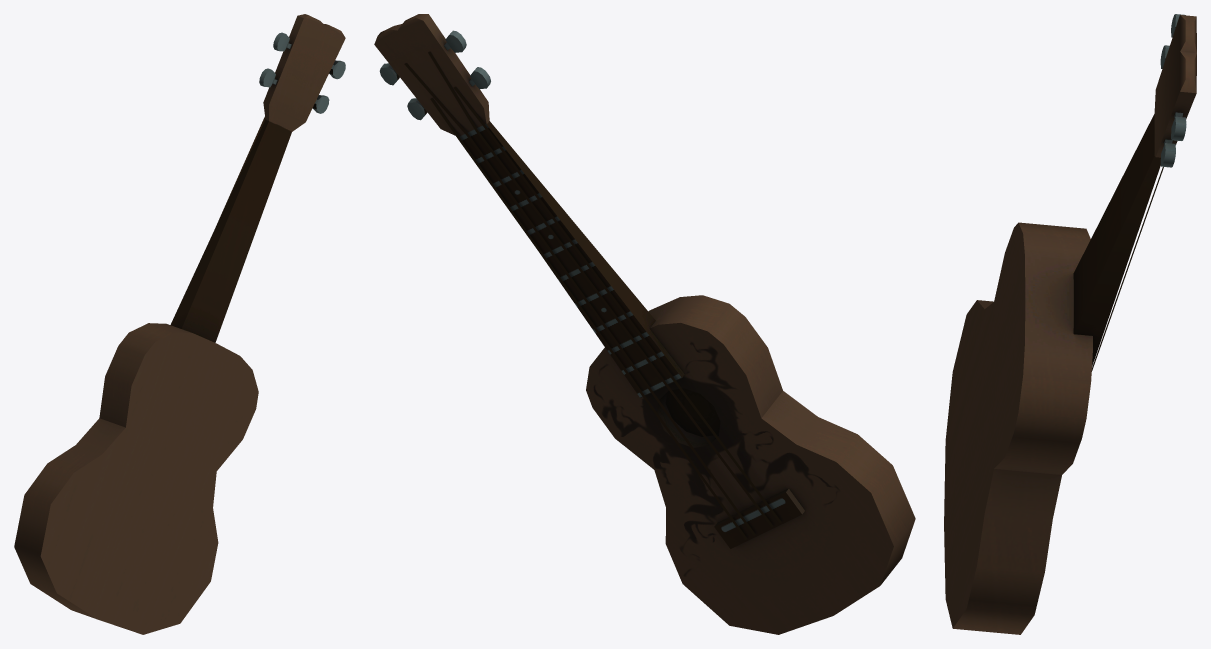
File: mdlUkulele.fbx
3 renders of one model, left to right at view 1: azimuth 30°, elevation 25°; view 2: azimuth 150°, elevation 25°; view 3: azimuth 270°, elevation 25°, orthographic. The views are drawn at different scales.
Visible parts, largest first — view 1: mdlUkulele; view 2: mdlUkulele; view 3: mdlUkulele.
Boxes of the visible parts, x1,y1,x2,y2 form: mdlUkulele: [14, 14, 345, 634]; mdlUkulele: [374, 14, 915, 634]; mdlUkulele: [944, 14, 1196, 634].
Bounding box in the file's own units: 0.5363 × 0.6781 × 0.202.
1 material, 1 textured.
